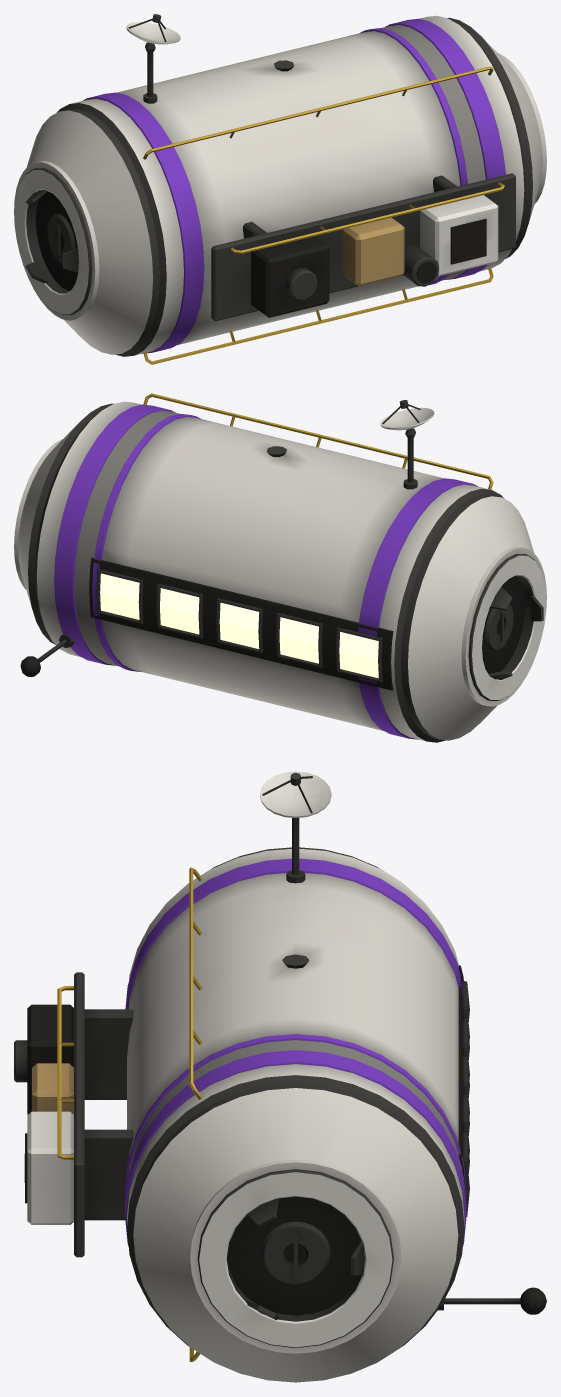
Rendered from research-lab.glb.
3 renders of one model, top to bottom at view 1: azimuth 30°, elevation 25°; view 2: azimuth 150°, elevation 25°; view 3: azimuth 270°, elevation 25°, orthographic. The views are drawn at different scales.
Parts seen in each view (by area): view 1: body; view 2: body, glow; view 3: body.
Boxes of the visible parts, bbox=[...] form: body: bbox=[14, 14, 546, 364]; body: bbox=[14, 393, 546, 742]; glow: bbox=[100, 573, 378, 678]; body: bbox=[14, 771, 546, 1382].
Size of the model in its own units: 6.83 by 4.36 by 5.05.
